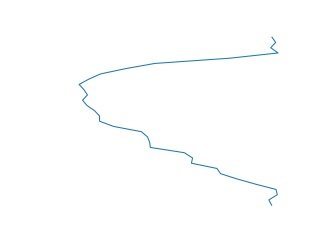mouthBar: (72, 34, 282, 209)
